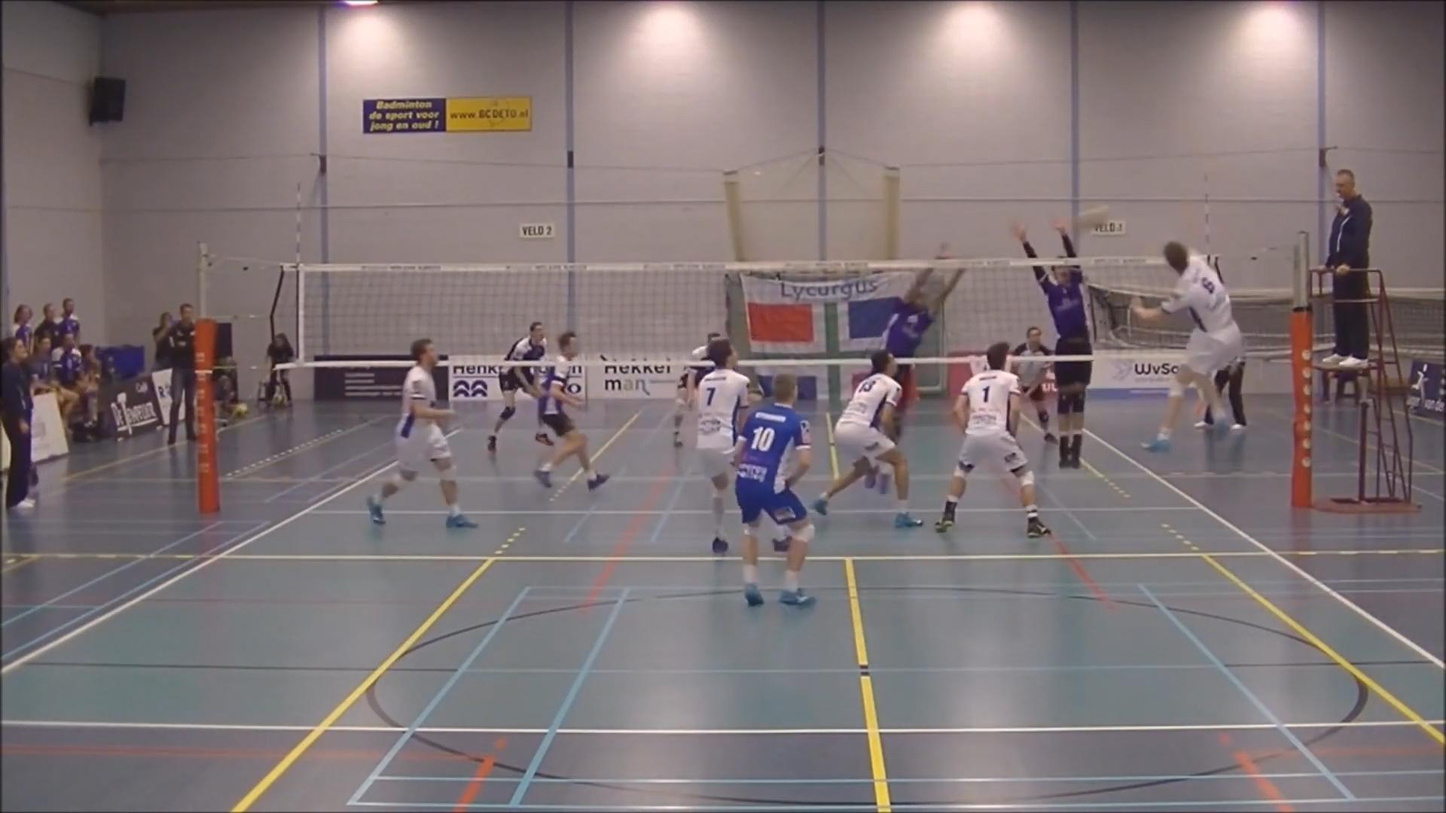attacco: (1096, 231, 1259, 448)
muro: (857, 218, 971, 506), (1015, 208, 1103, 480)
